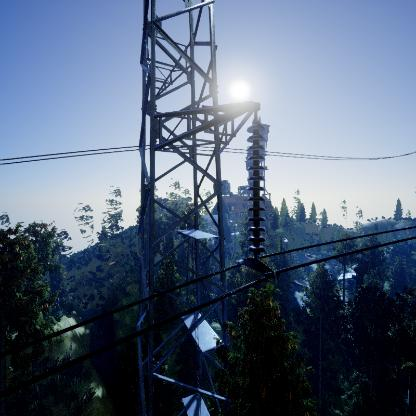insulator: (243, 123, 268, 255)
